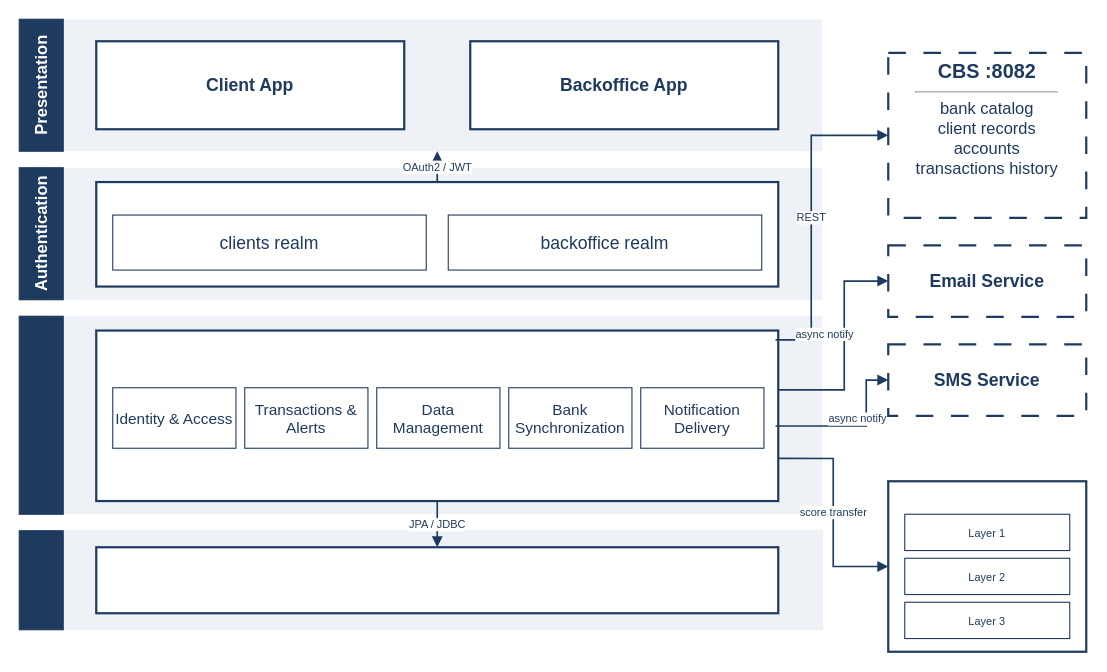
Some shapes in this 1107 by 672 pixel diagram are drawn without their labels. Here are the shapes that lost their labels. From the top down, the box of each, then its label:
(95, 180, 779, 287): Auth Service :8080
(18, 315, 63, 514): Application
(95, 329, 779, 502): Backend :8081
(18, 530, 63, 630): Data
(95, 546, 779, 614): Database :5432
(887, 480, 1087, 652): ML Service :5000
